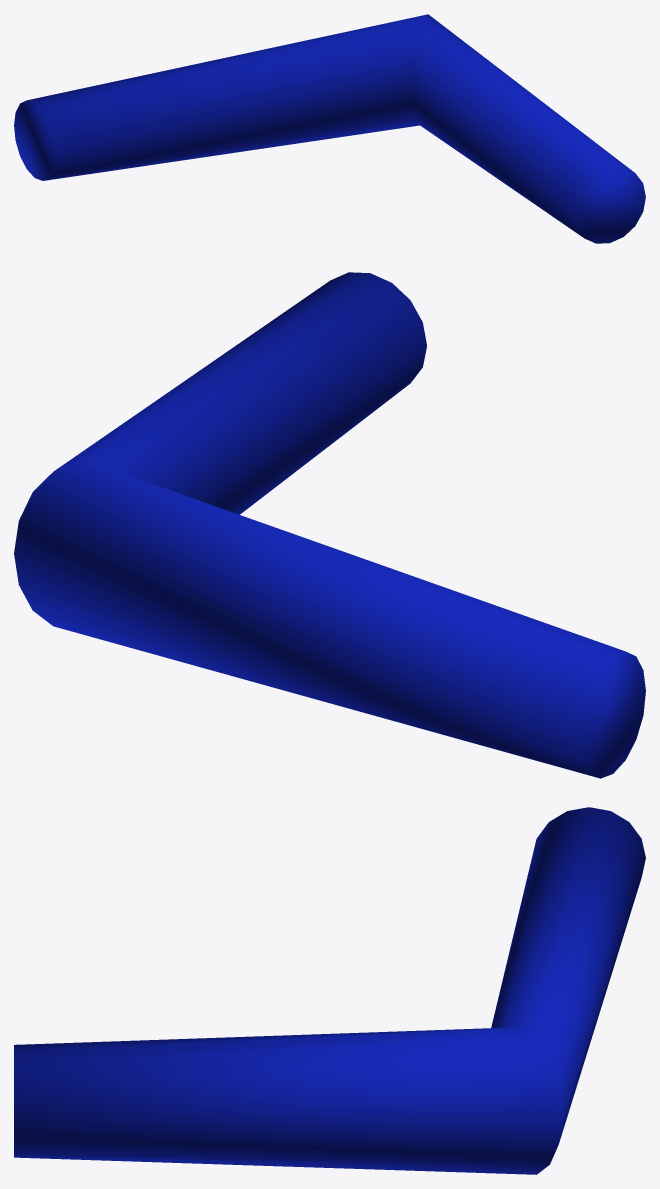
The model's file is cableBlue3.glb.
The picture shows the model from 3 angles, top to bottom: view 1: azimuth 30°, elevation 25°; view 2: azimuth 150°, elevation 25°; view 3: azimuth 270°, elevation 25°; orthographic projection. The views are drawn at different scales.
Visible parts, largest first — view 1: cableBlue3; view 2: cableBlue3; view 3: cableBlue3.
Part boxes in pixels (<box>): cableBlue3: <box>14,14,645,243</box>; cableBlue3: <box>14,272,645,778</box>; cableBlue3: <box>14,807,645,1174</box>.
Size of the model in its own units: 1 by 0.2533 by 1.
